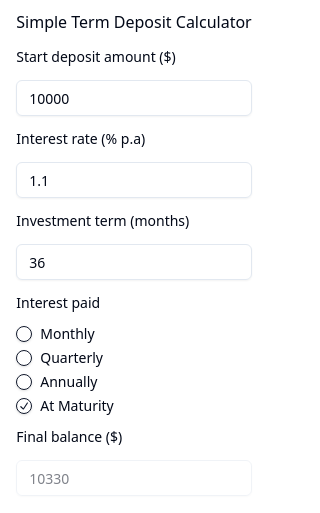
it: Home page › should successfully select quarterly radio item
Click the radio button with test id "quarterly-radio" at (24, 358), box [16,350,32,366]
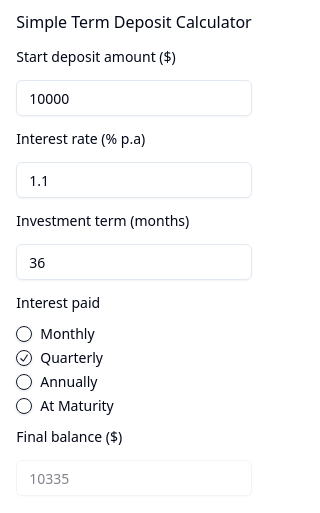
Check: the number field with test id "depositAmount-input" holds "10000", box [16,80,252,116]
Check: the radio button with test id "quarterly-radio" is checked, box [16,350,32,366]
Check: the number field with test id "finalBalance-input" holds "10335", box [16,460,252,496]
